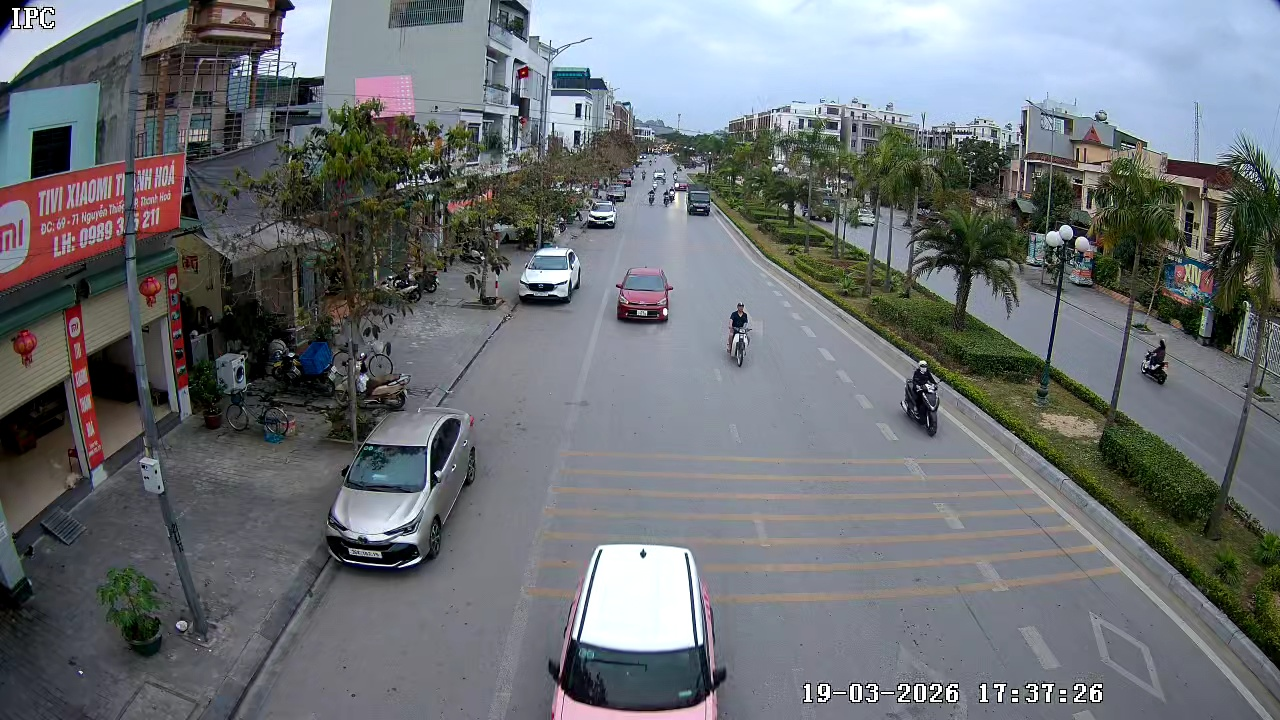car: (544, 540, 732, 719), (325, 407, 478, 571), (518, 246, 582, 304), (614, 264, 675, 324), (583, 196, 619, 229), (686, 186, 713, 216)
motorbike: (355, 342, 412, 411), (899, 358, 945, 437), (724, 299, 753, 368), (1140, 337, 1171, 387)
